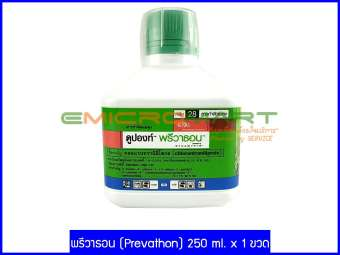Insecticide: (98, 4, 243, 208)
